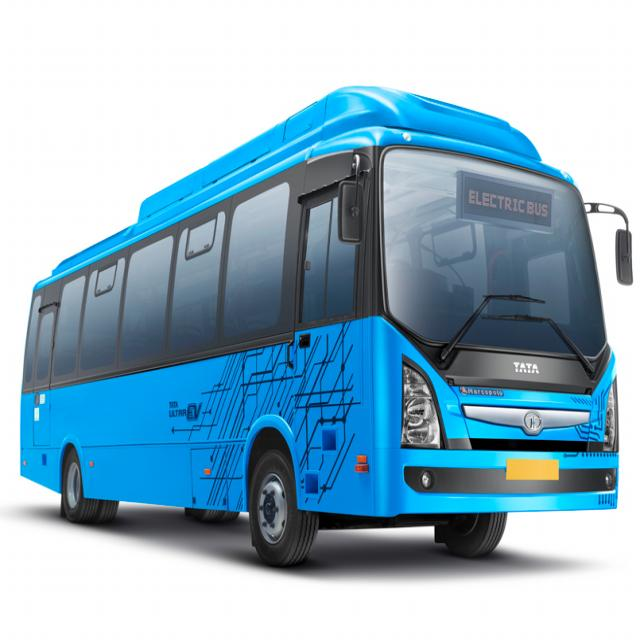bus: (19, 85, 628, 555)
